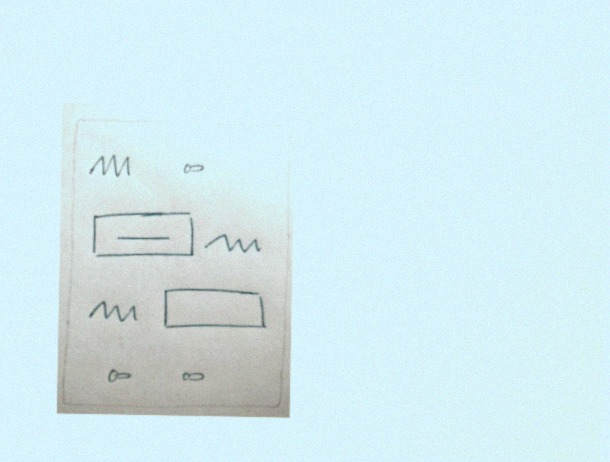button: (87, 205, 204, 264)
switch: (169, 363, 219, 387), (100, 361, 138, 387), (177, 156, 212, 181)
text: (82, 292, 140, 328), (200, 228, 268, 257), (84, 149, 139, 183)
text_input: (157, 281, 273, 336)
